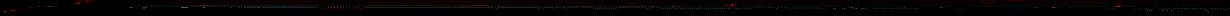Blue cone: (29, 7, 35, 8), (36, 6, 41, 7)
Yellow cone: (721, 4, 741, 7)
